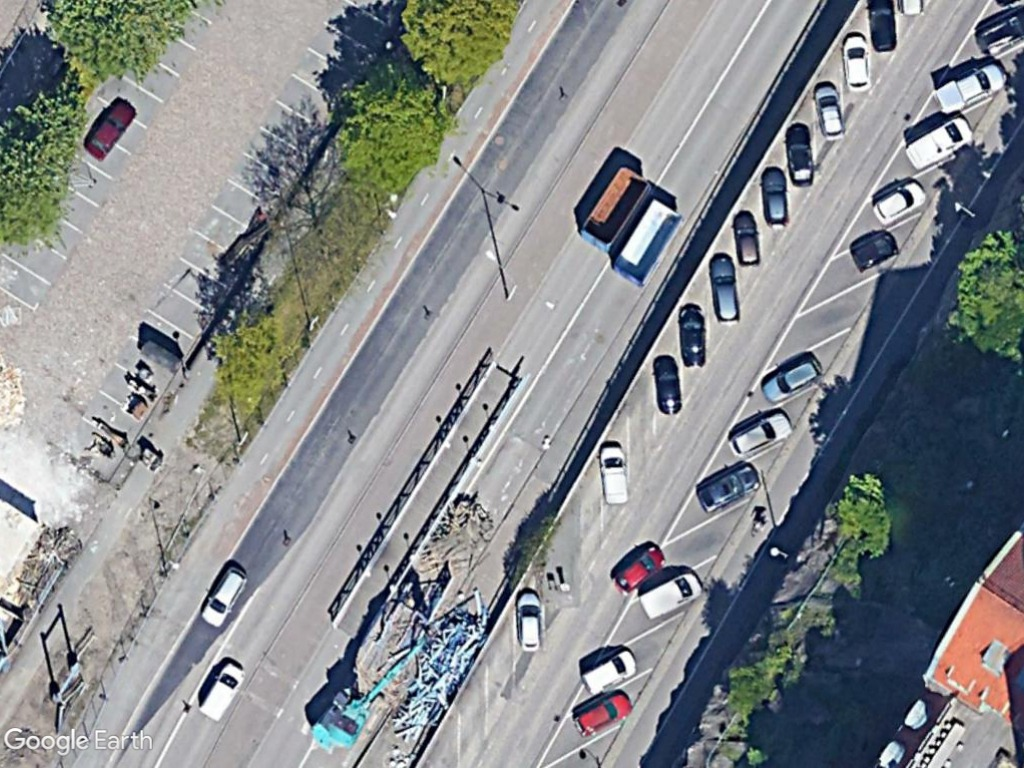car: (77, 88, 137, 167), (900, 110, 975, 173), (755, 346, 827, 411), (691, 455, 767, 512), (196, 558, 253, 633), (722, 404, 797, 458), (608, 540, 672, 603), (572, 683, 639, 740), (704, 250, 748, 329), (646, 349, 691, 421), (867, 173, 930, 224), (509, 584, 550, 660), (836, 27, 879, 98), (808, 77, 851, 147), (781, 117, 821, 192), (758, 161, 797, 236), (674, 299, 712, 373), (728, 204, 767, 272)
other: (927, 58, 1009, 124)
van: (635, 565, 705, 629), (193, 656, 249, 726), (577, 639, 642, 696), (593, 439, 636, 511)
